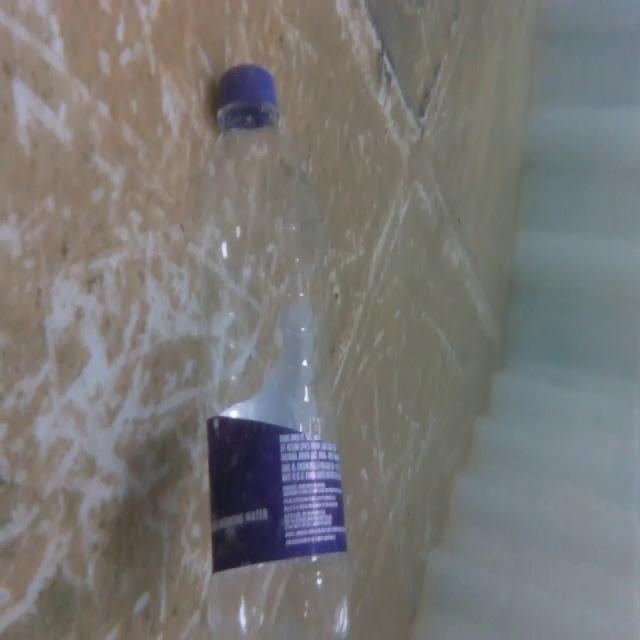plastic bottle: (190, 53, 356, 640)
